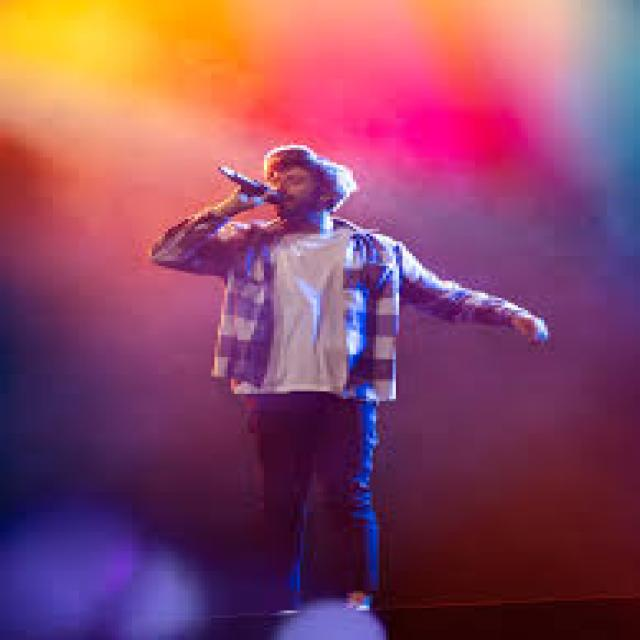Edited images: (128, 122, 548, 633)
